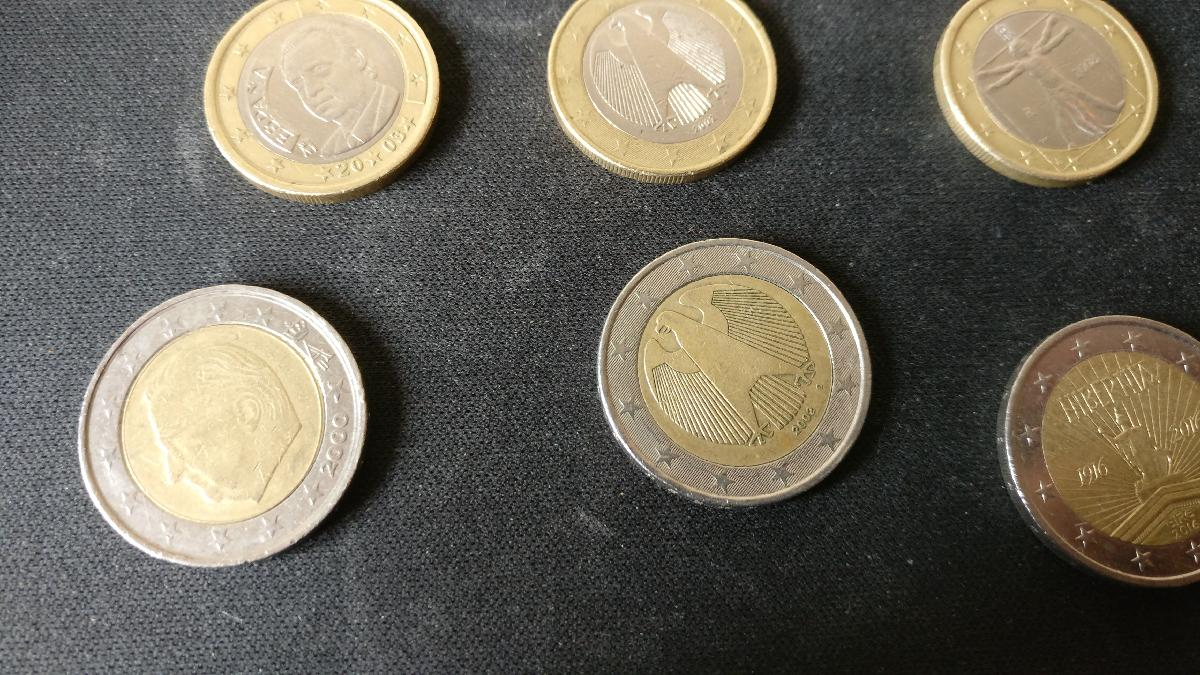One Euro: (197, 1, 447, 200), (544, 1, 786, 190), (935, 1, 1163, 193)
Two Euro: (73, 279, 386, 565), (592, 236, 878, 512), (996, 305, 1200, 583)
